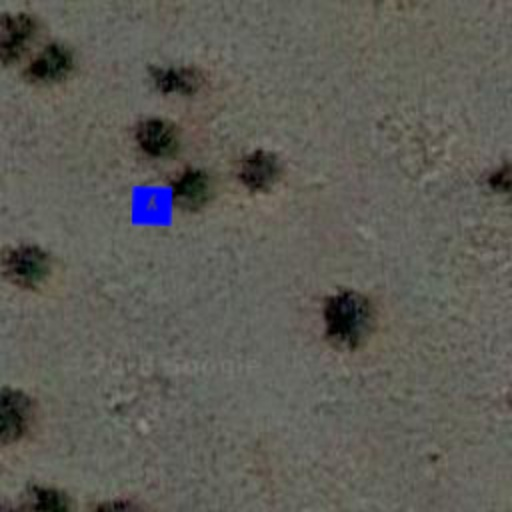rectangle: (132, 186, 172, 226)
